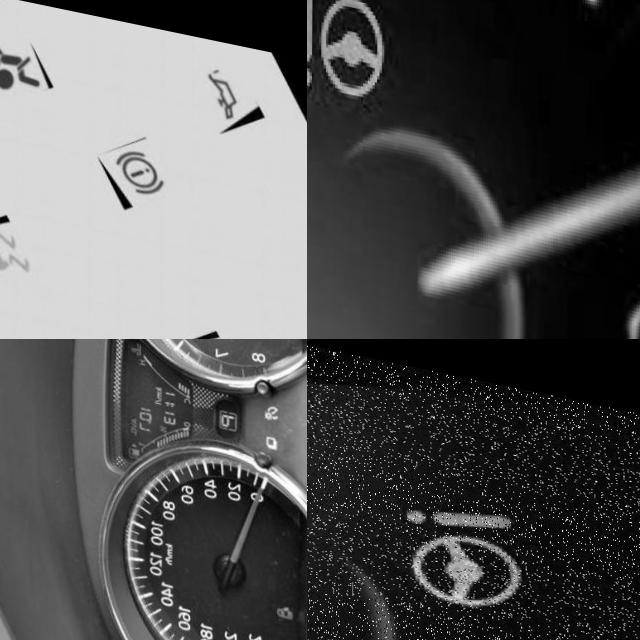Electronic Power Steering: (380, 450, 539, 613), (307, 0, 391, 113)
